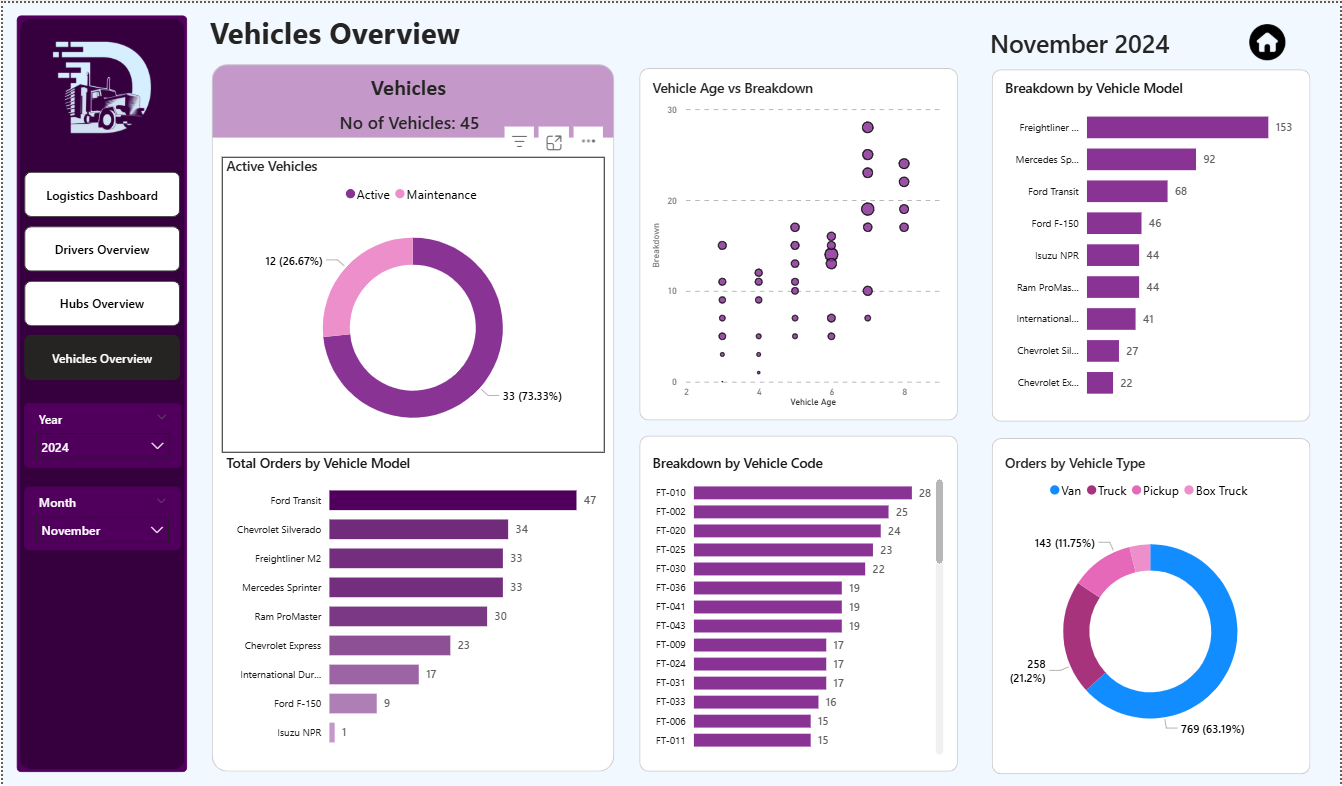

The dashboard page shown, as its layout file describes it:
{"tool":"powerbi","page":{"name":"Vehicles Overview","canvas":[1450,850],"ordinal":3},"visuals":[{"type":"shape","box":[15.5,14,185,820.8],"z":0},{"type":"textbox","box":[219.7,5.4,383.8,58.3],"z":1000},{"type":"slicer","fields":{"Values":["Date Table.Year"]},"box":[22.9,434.3,170,70],"z":2000},{"type":"slicer","fields":{"Values":["Date Table.Month"]},"box":[23.1,525.2,169.5,69.2],"z":3000},{"type":"image","box":[43.4,29.8,130.2,131.5],"z":4000},{"type":"cardVisual","fields":{"Data":["Orders.Year Month Title"]},"box":[1025.2,16.3,286.1,50.2],"z":5000},{"type":"image","box":[1352,14.9,39.3,55.6],"z":6000},{"type":"shape","box":[690.3,70.5,345.8,382.4],"z":7000},{"type":"shape","box":[226.5,70.5,436.7,763.5],"z":8000},{"type":"shape","box":[226.5,66.4,436.7,80],"z":9000},{"type":"textbox","box":[290.7,71.6,299.7,39.3],"z":10000},{"type":"cardVisual","fields":{"Data":["Vehicles.No of Vehicles"]},"box":[339.6,109.6,204.8,35.3],"z":11000},{"type":"donutChart","title":"Active Vehicles","fields":{"Category":["Vehicles.Vehicle Status"],"Y":["Vehicles.Total Vehicles"]},"box":[237.3,166.8,415,321.4],"z":12000},{"type":"barChart","fields":{"Category":["Vehicles.Vehicle Model"],"Y":["Orders.Total Orders"]},"box":[237.3,488.2,415,332.2],"z":13000},{"type":"shape","box":[1072.7,71.9,345.8,382.4],"z":14000},{"type":"scatterChart","title":"Vehicle Age vs Breakdown","fields":{"X":["Vehicles.Vehicle Age"],"Y":["Vehicles.Breakdown"],"Size":["Sum(Vehicles.Breakdown)1"]},"box":[699.7,81.4,325.5,362.1],"z":15000},{"type":"shape","box":[690.3,469.2,345.8,364.8],"z":16000},{"type":"barChart","title":"Breakdown by Vehicle Code","fields":{"Category":["Vehicles.Vehicle Code"],"Y":["Sum(Vehicles.Breakdown)"]},"box":[699.7,488.2,325.5,332.2],"z":17000},{"type":"barChart","title":"Breakdown by Vehicle Model","fields":{"Y":["Sum(Vehicles.Breakdown)"],"Category":["Vehicles.Vehicle Model"]},"box":[1082.2,81.4,325.5,362.1],"z":18000},{"type":"shape","box":[1072.7,471.9,345.8,364.8],"z":18001},{"type":"donutChart","title":"Orders by Vehicle Type","fields":{"Category":["Orders.Vehicle Type"],"Y":["Orders.Total Orders"]},"box":[1082.2,488.2,325.5,337.7],"z":18002},{"type":"pageNavigator","box":[23.1,183.1,169.5,226.5],"z":18003}]}

Visuals, with their boxes in screenshot pixels (x1, y1, x2, y2), scaled from the page's 1450x850 canvas onto the 1342x786 screenshot:
shape: rect(14, 13, 186, 772)
textbox: rect(203, 5, 559, 59)
slicer - Date Table.Year: rect(21, 402, 179, 466)
slicer - Date Table.Month: rect(21, 486, 178, 550)
image: rect(40, 28, 161, 149)
cardVisual - Orders.Year Month Title: rect(949, 15, 1214, 61)
image: rect(1251, 14, 1288, 65)
shape: rect(639, 65, 959, 419)
shape: rect(210, 65, 614, 771)
shape: rect(210, 61, 614, 135)
textbox: rect(269, 66, 546, 103)
cardVisual - Vehicles.No of Vehicles: rect(314, 101, 504, 134)
"Active Vehicles" donutChart: rect(220, 154, 604, 451)
barChart - Vehicles.Vehicle Model x Orders.Total Orders: rect(220, 451, 604, 759)
shape: rect(993, 66, 1313, 420)
"Vehicle Age vs Breakdown" scatterChart: rect(648, 75, 949, 410)
shape: rect(639, 434, 959, 771)
"Breakdown by Vehicle Code" barChart: rect(648, 451, 949, 759)
"Breakdown by Vehicle Model" barChart: rect(1002, 75, 1303, 410)
shape: rect(993, 436, 1313, 774)
"Orders by Vehicle Type" donutChart: rect(1002, 451, 1303, 764)
pageNavigator: rect(21, 169, 178, 379)
